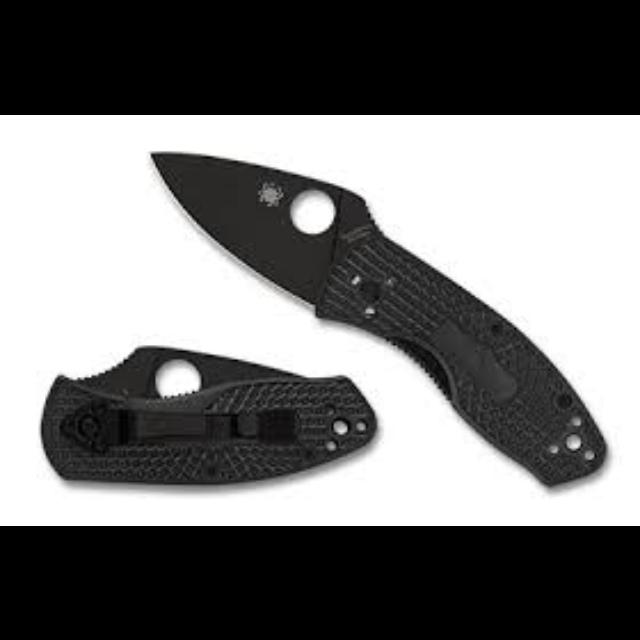knife: (148, 148, 608, 486)
